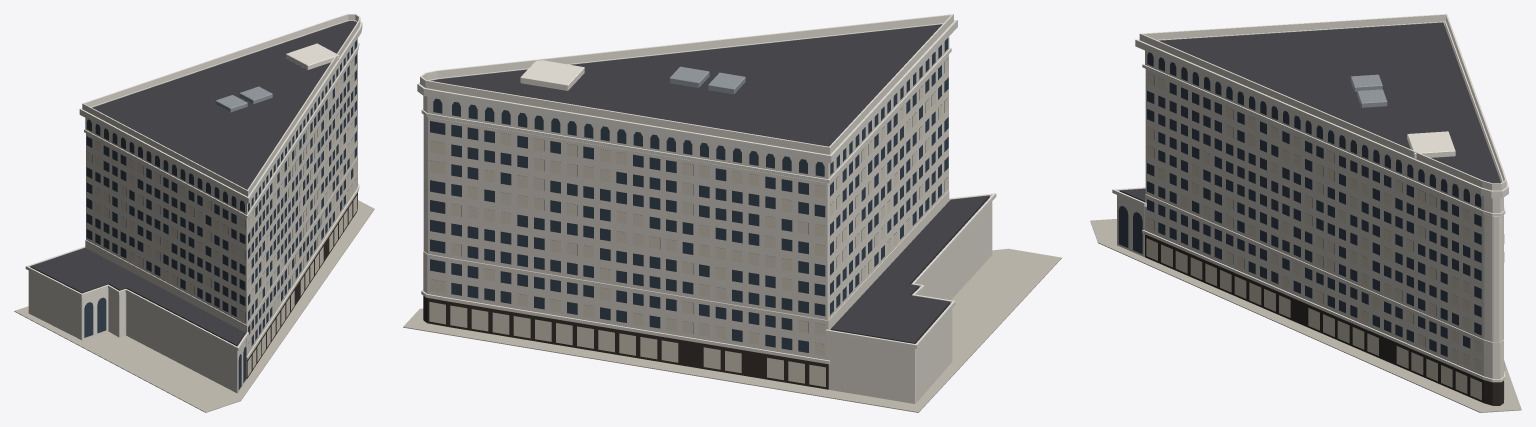
File: phelan-building.glb
3 views of the same model, side by side, from view 1: azimuth 30°, elevation 25°; view 2: azimuth 150°, elevation 25°; view 3: azimuth 270°, elevation 25° (orthographic). The views are drawn at different scales.
Parts seen in each view (by area): view 1: phelan-building_body, phelan-building_night_glow; view 2: phelan-building_body, phelan-building_night_glow; view 3: phelan-building_body, phelan-building_night_glow.
Boxes of the visible parts, x1,y1,x2,y2 form: phelan-building_body: (14,14,374,412); phelan-building_night_glow: (86,60,357,376); phelan-building_body: (403,14,1061,412); phelan-building_night_glow: (429,58,948,386); phelan-building_body: (1090,14,1521,412); phelan-building_night_glow: (1146,73,1504,400).
Bounding box in the file's own units: 96.61 × 47 × 82.16.
